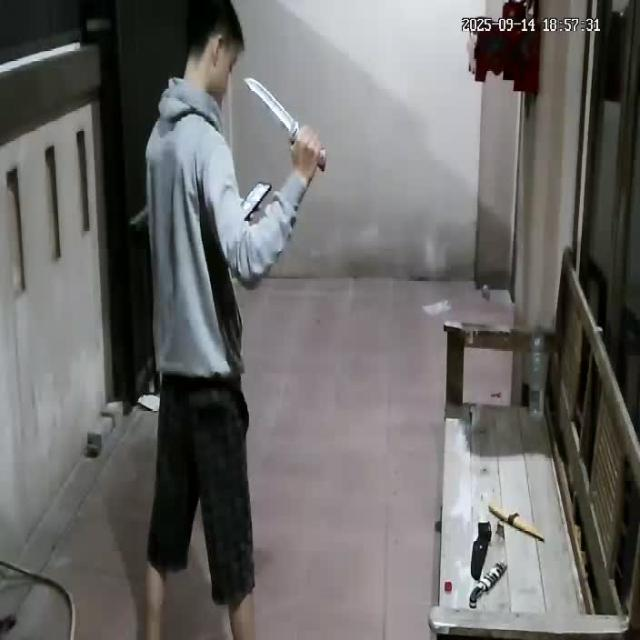senjata_tajam: (243, 76, 299, 138)
